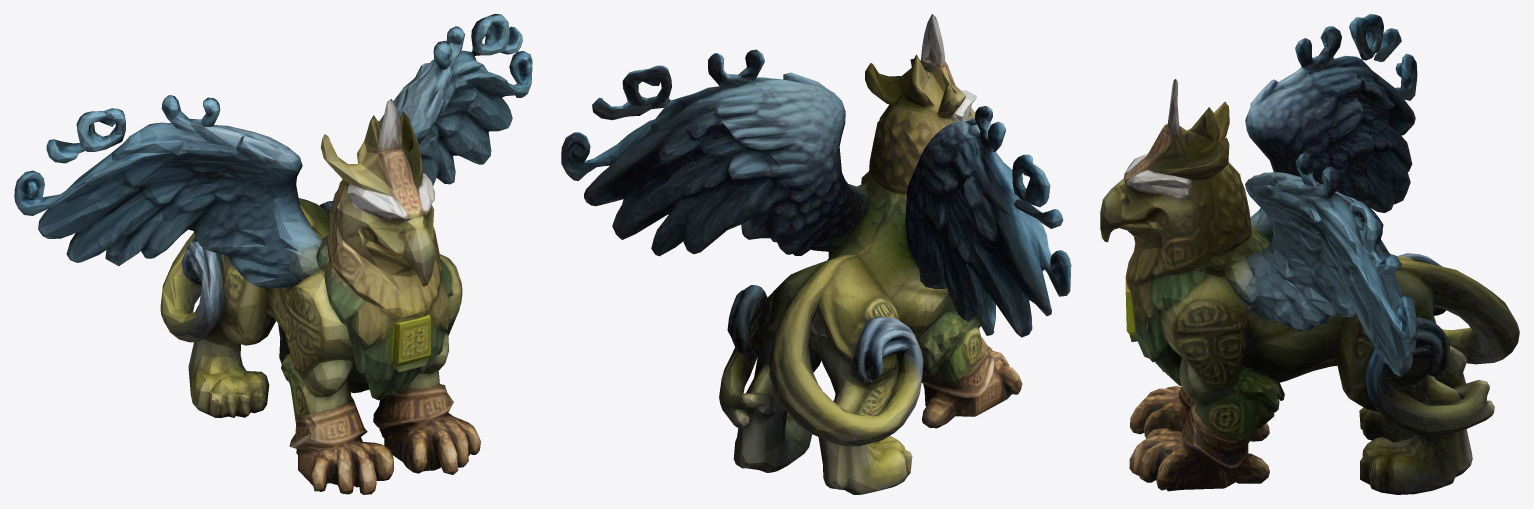
Rendered from skyrend__galeGriffin.glb.
The picture shows the model from 3 angles, left to right: view 1: azimuth 30°, elevation 25°; view 2: azimuth 150°, elevation 25°; view 3: azimuth 270°, elevation 25°; orthographic projection. The views are drawn at different scales.
Parts seen in each view (by area): view 1: world; view 2: world; view 3: world.
Part boxes in pixels (left/top/right/bottom): world: left=14, top=14, right=532, bottom=494; world: left=561, top=14, right=1071, bottom=494; world: left=1100, top=14, right=1519, bottom=494.
Size of the model in its own units: 1 by 0.7018 by 0.6985.
1 material, 1 textured.
